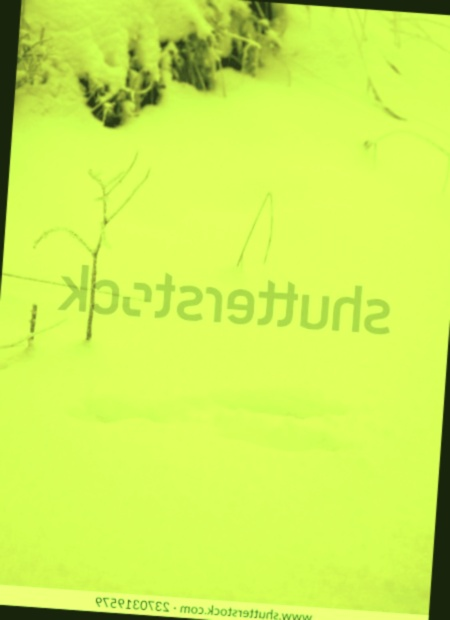lapin: (44, 349, 383, 467)
